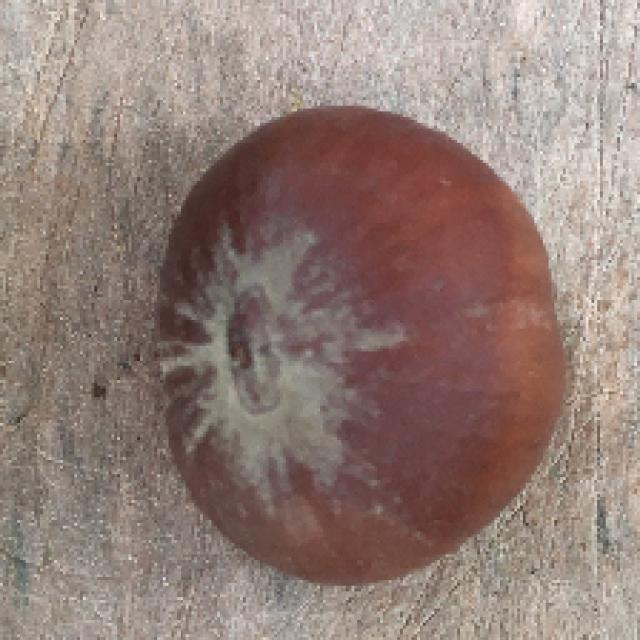DamagedHazelnut: (158, 104, 555, 582)
